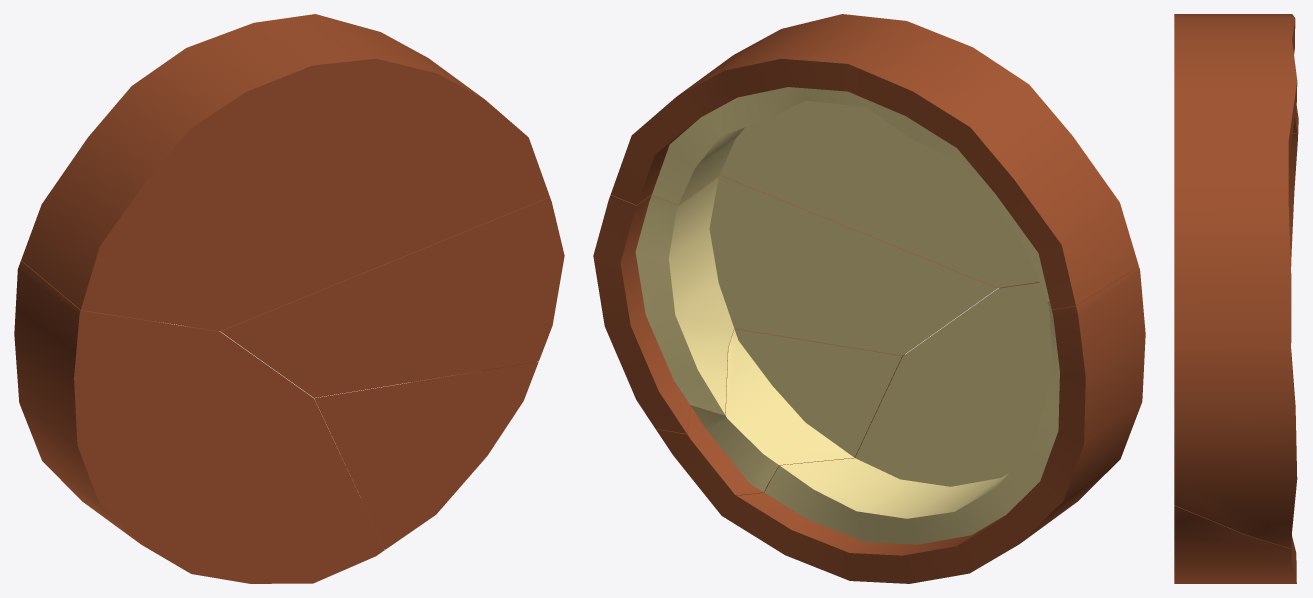
File: Log Layer 2 Pieces.fbx
3 renders of one model, left to right at view 1: azimuth 30°, elevation 25°; view 2: azimuth 150°, elevation 25°; view 3: azimuth 270°, elevation 25°, orthographic.
Visible parts, largest first — view 1: Log Layer 2_cell, Log Layer 2_cell.002, Log Layer 2_cell.003, Log Layer 2_cell.001; view 2: Log Layer 2_cell, Log Layer 2_cell.002, Log Layer 2_cell.003, Log Layer 2_cell.001; view 3: Log Layer 2_cell, Log Layer 2_cell.003, Log Layer 2_cell.001, Log Layer 2_cell.002.
Part boxes in pixels (box(x1,y1,x2,y2)): Log Layer 2_cell: box(21, 14, 549, 331); Log Layer 2_cell.002: box(14, 260, 384, 583); Log Layer 2_cell.003: box(220, 197, 564, 397); Log Layer 2_cell.001: box(314, 362, 538, 549); Log Layer 2_cell: box(610, 14, 1138, 309); Log Layer 2_cell.002: box(726, 266, 1145, 583); Log Layer 2_cell.003: box(593, 175, 997, 433); Log Layer 2_cell.001: box(656, 328, 904, 517); Log Layer 2_cell: box(1174, 14, 1297, 347); Log Layer 2_cell.003: box(1174, 339, 1297, 548); Log Layer 2_cell.001: box(1174, 505, 1296, 583); Log Layer 2_cell.002: box(1289, 113, 1298, 266).
Bounding box in the file's own units: 2.55 × 2.57 × 0.556.
